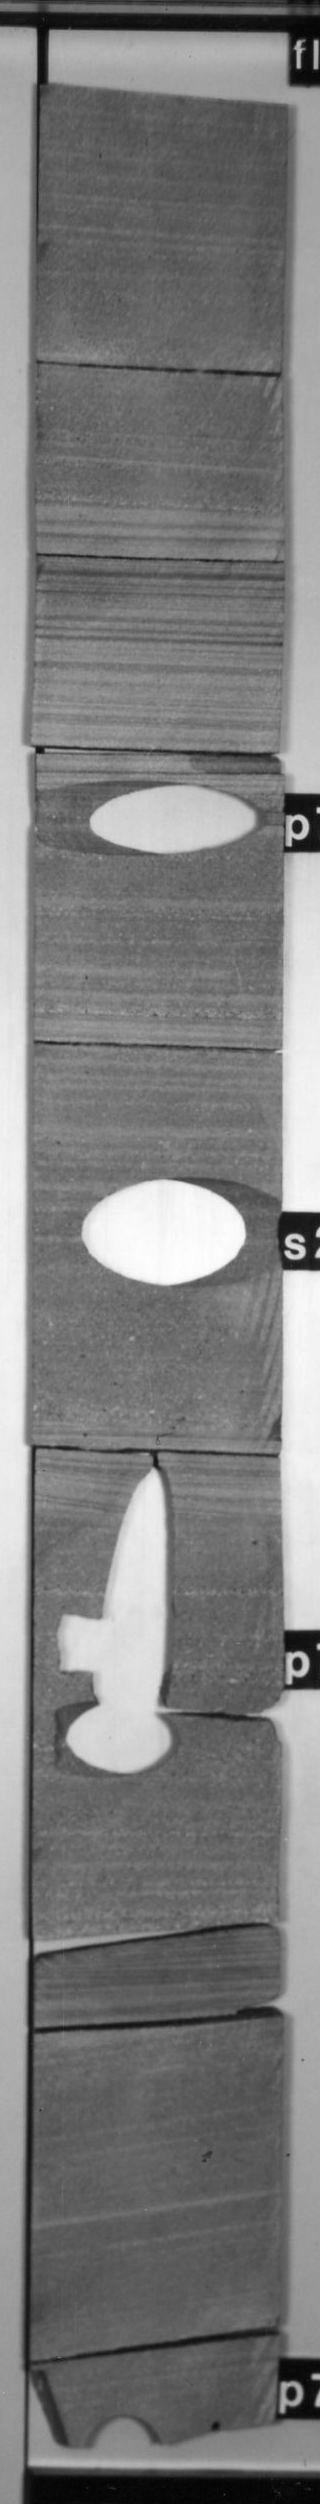hplug: (38, 21, 290, 120), (34, 770, 280, 866), (37, 1696, 195, 1789), (86, 2403, 170, 2458), (51, 1599, 99, 1685)
scal: (72, 1163, 278, 1297)
vplug: (86, 1463, 187, 1699), (30, 2357, 80, 2458)
